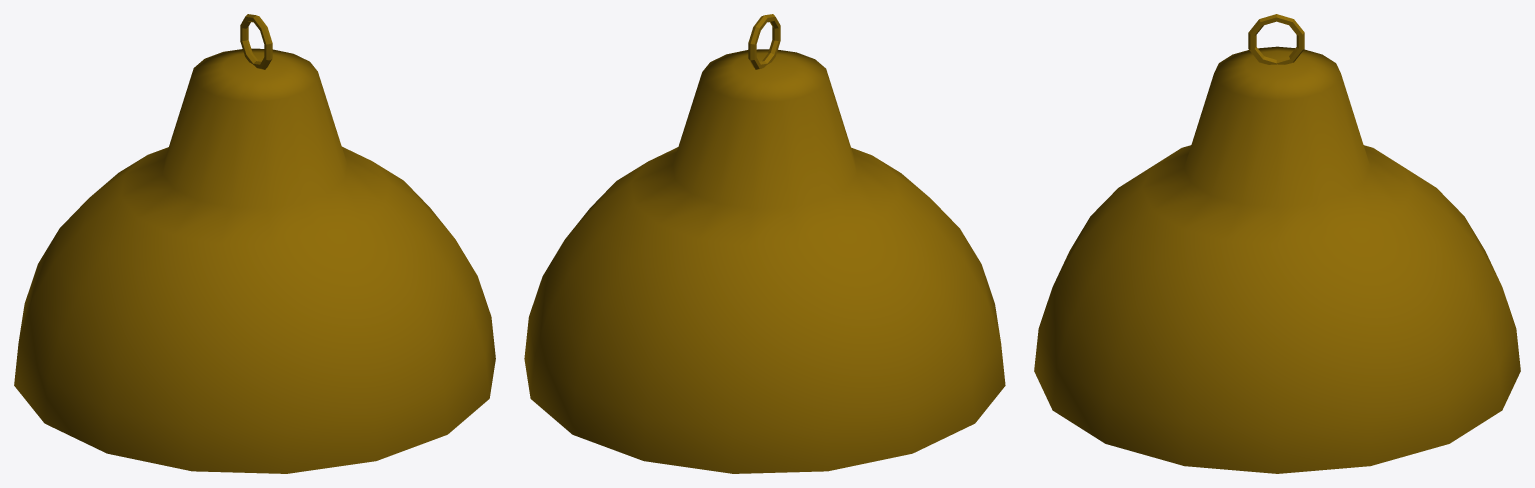
File: Lamp_05.fbx
3 views of the same model, side by side, from view 1: azimuth 30°, elevation 25°; view 2: azimuth 150°, elevation 25°; view 3: azimuth 270°, elevation 25° (orthographic).
Parts seen in each view (by area): view 1: Lamp_05; view 2: Lamp_05; view 3: Lamp_05.
Part boxes in pixels (box(x1,y1,x2,y2)): Lamp_05: box(14, 14, 495, 473); Lamp_05: box(524, 14, 1005, 473); Lamp_05: box(1034, 14, 1520, 473).
Size of the model in its own units: 77.9 by 63.26 by 77.9.
